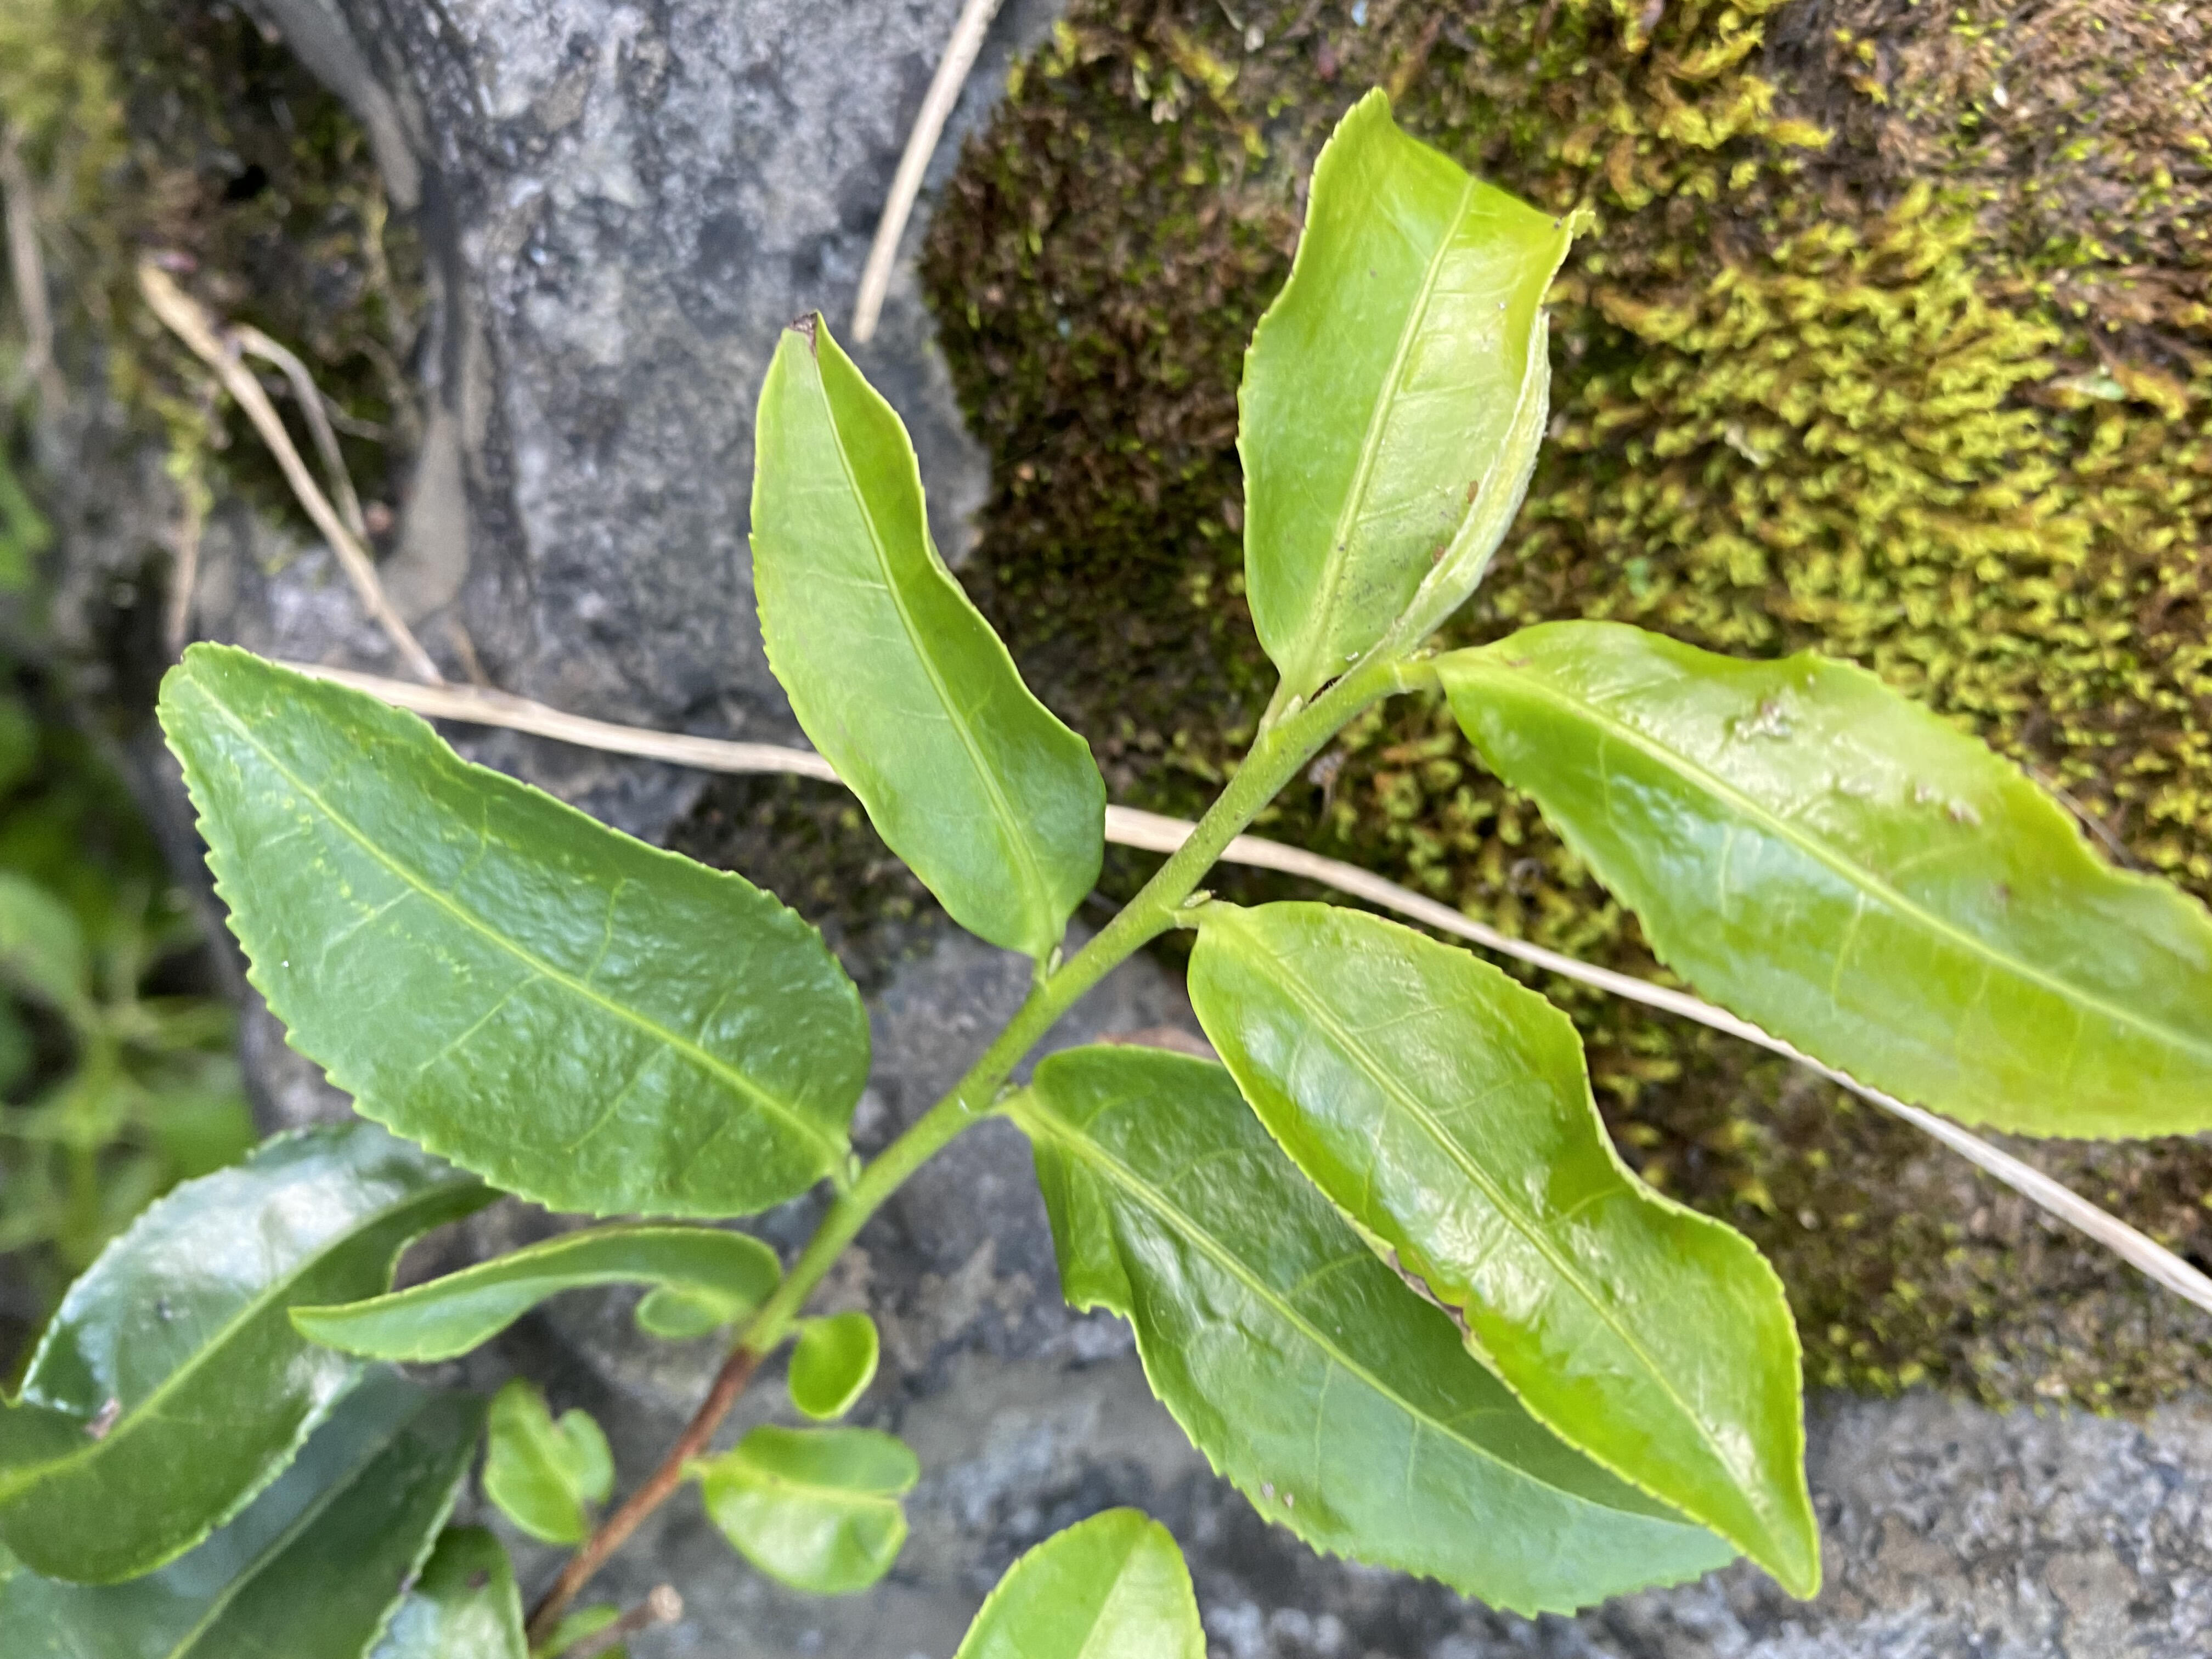healthy: (150, 634, 876, 1223)
tanju_low: (1184, 897, 1822, 1601), (1444, 617, 2212, 1143), (744, 308, 1113, 951), (1231, 82, 1599, 687)
